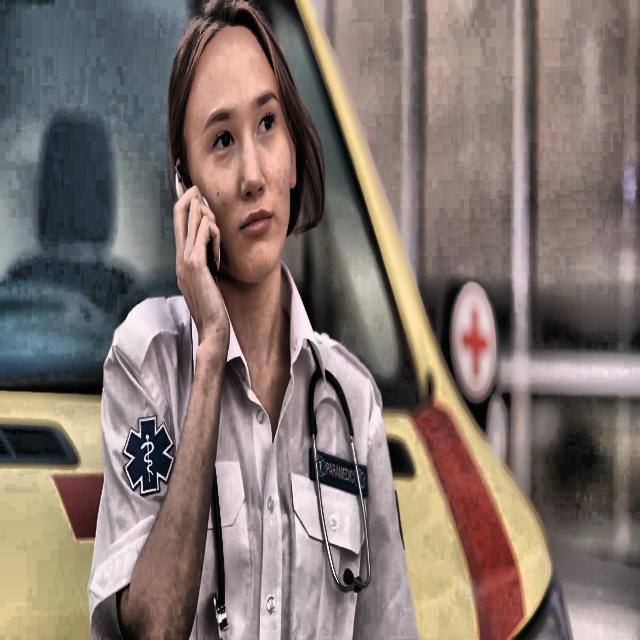Phone: (174, 158, 219, 288)
